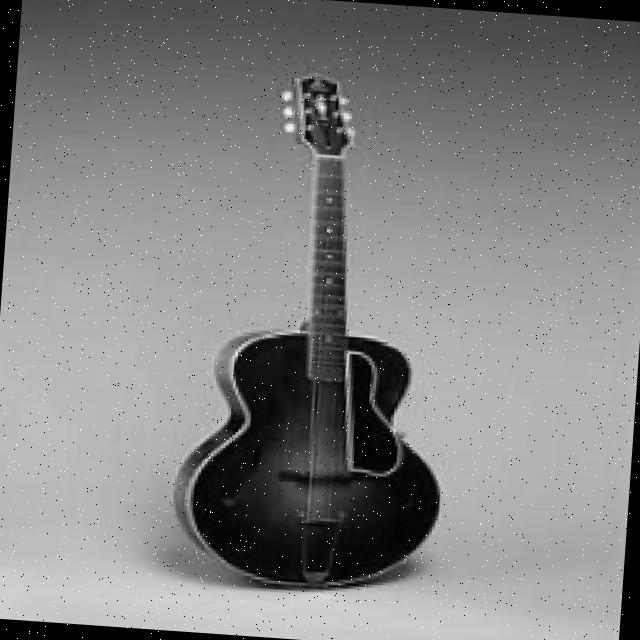guitar: (160, 66, 478, 604)
